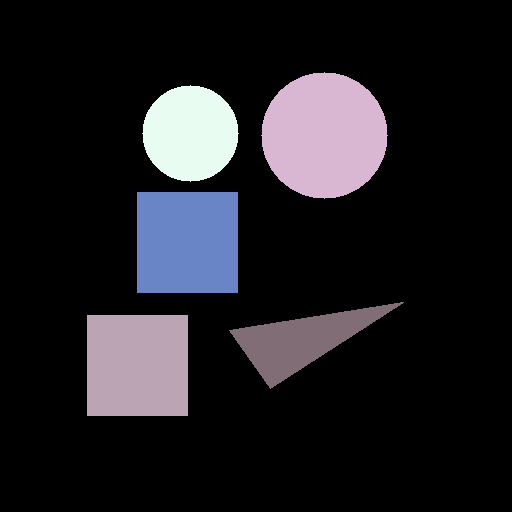circle: (261, 72, 387, 198), (142, 85, 238, 181)
square: (87, 315, 187, 415), (137, 192, 237, 292)
triangle: (229, 302, 403, 388)
